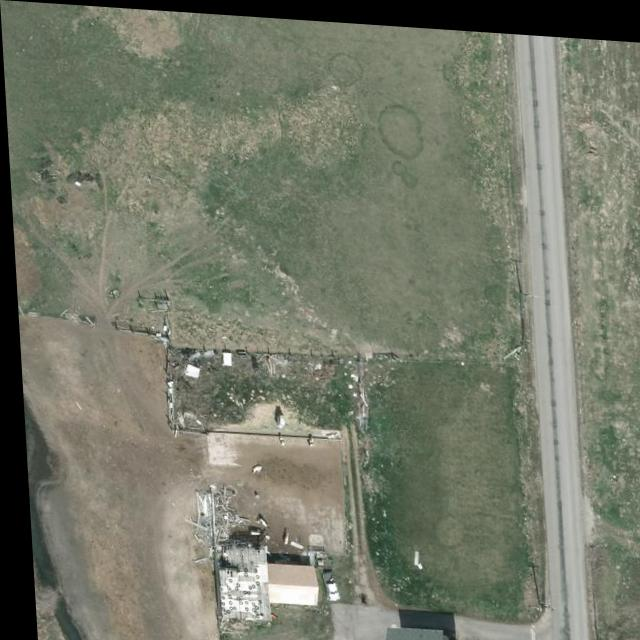vehicle: (314, 566, 334, 599)
